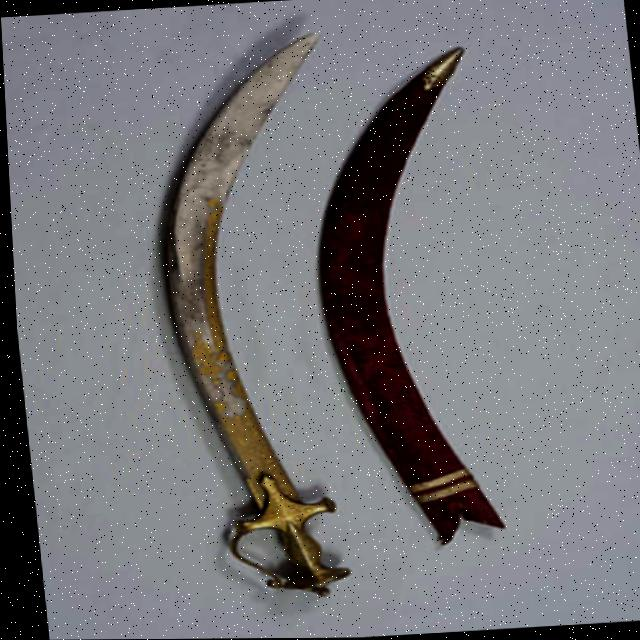knife: (131, 26, 380, 607)
